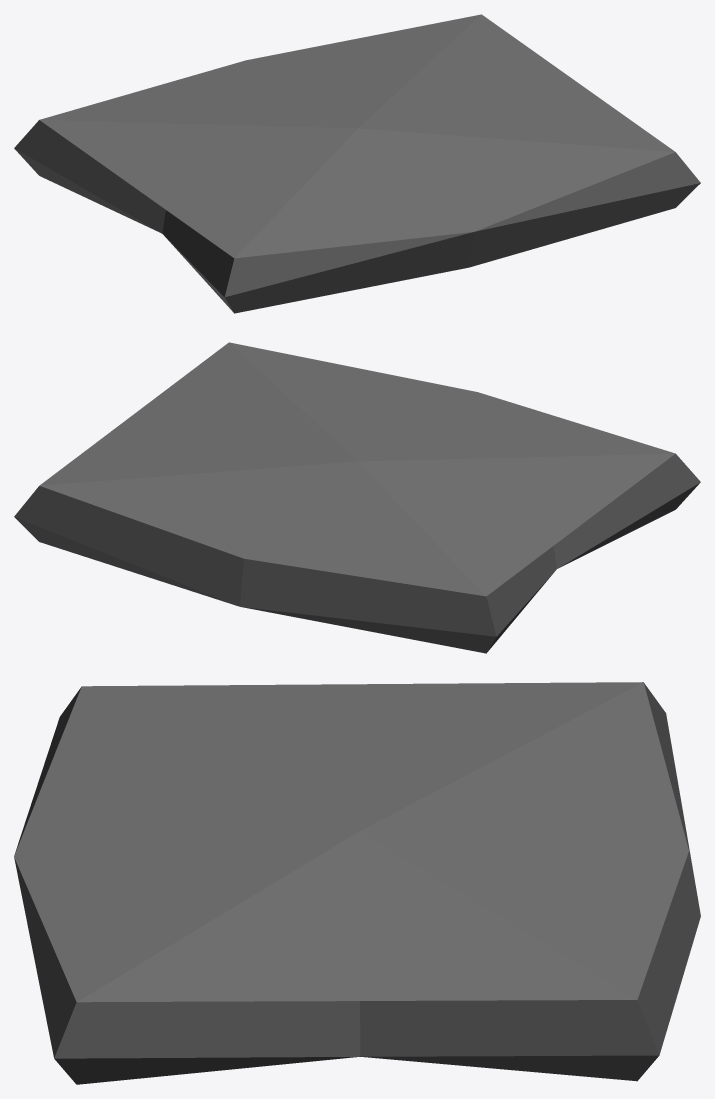
File: Burnt Toast.fbx
The picture shows the model from 3 angles, top to bottom: view 1: azimuth 30°, elevation 25°; view 2: azimuth 150°, elevation 25°; view 3: azimuth 270°, elevation 25°; orthographic projection. The views are drawn at different scales.
Parts seen in each view (by area): view 1: Burnt Toast; view 2: Burnt Toast; view 3: Burnt Toast.
Boxes of the visible parts, left/top/right/bottom form: Burnt Toast: left=14, top=14, right=700, bottom=313; Burnt Toast: left=14, top=342, right=700, bottom=653; Burnt Toast: left=14, top=682, right=700, bottom=1084.
Bounding box in the file's own units: 12.92 × 1.64 × 10.85.
